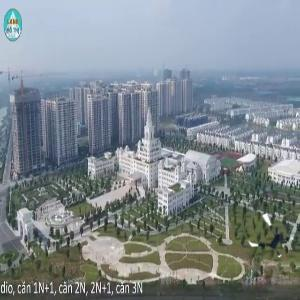drone: (248, 214, 294, 260)
